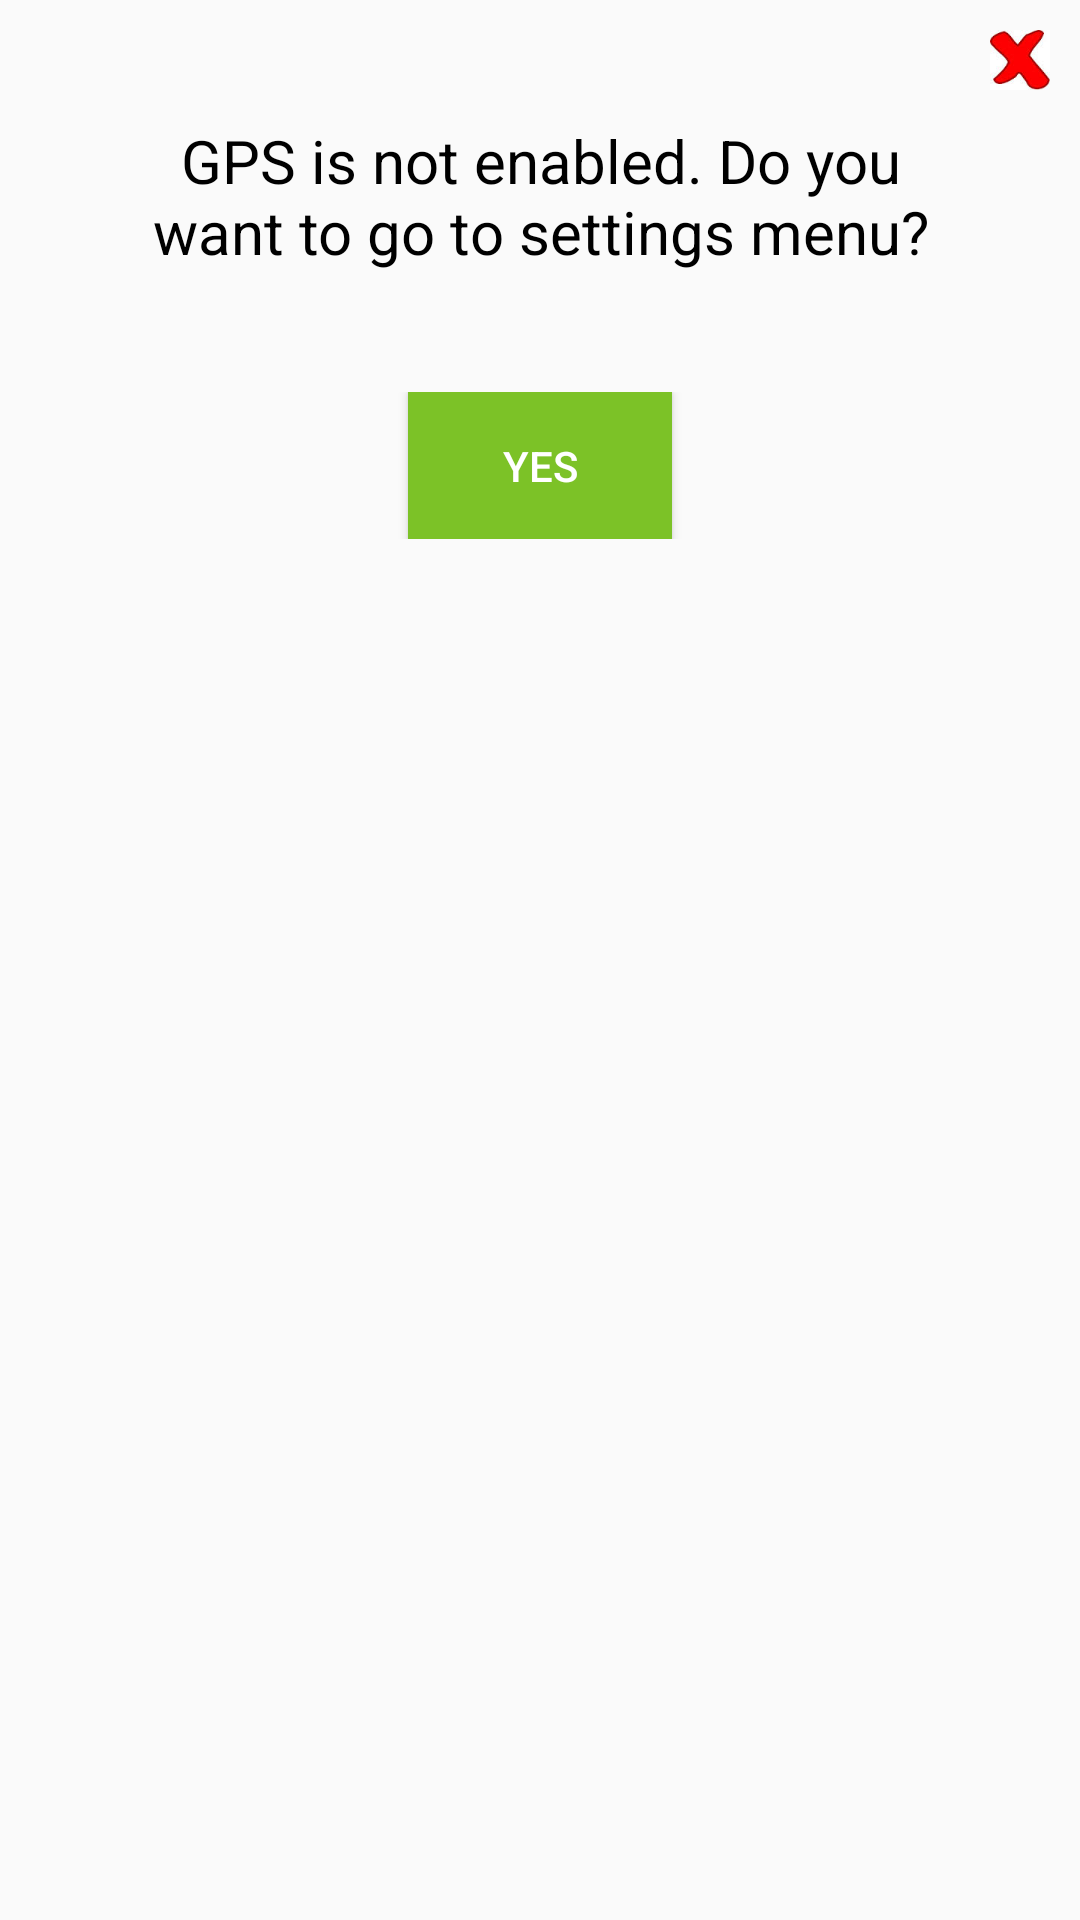

Where icons sit on this 1080x1920 app screen, as (x1, y1, x2, y2):
cross: (990, 30, 1050, 90)
